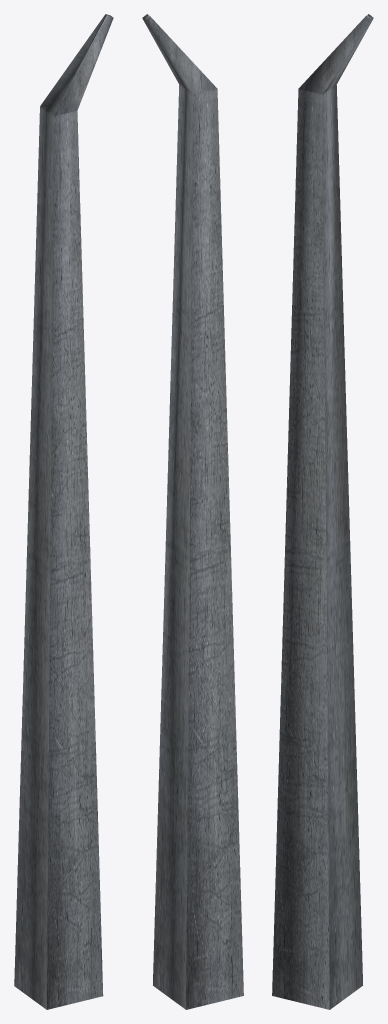
Rendered from picklock.dae.
3 renders of one model, left to right at view 1: azimuth 30°, elevation 25°; view 2: azimuth 210°, elevation 25°; view 3: azimuth 330°, elevation 25°, orthographic. The views are drawn at different scales.
Parts seen in each view (by area): view 1: Куб; view 2: Куб; view 3: Куб.
Part boxes in pixels (left/top/right/bottom): Куб: left=14, top=14, right=113, bottom=1009; Куб: left=142, top=14, right=243, bottom=1009; Куб: left=272, top=14, right=373, bottom=1009.
Size of the model in its own units: 0.2582 by 0.1785 by 2.92.
